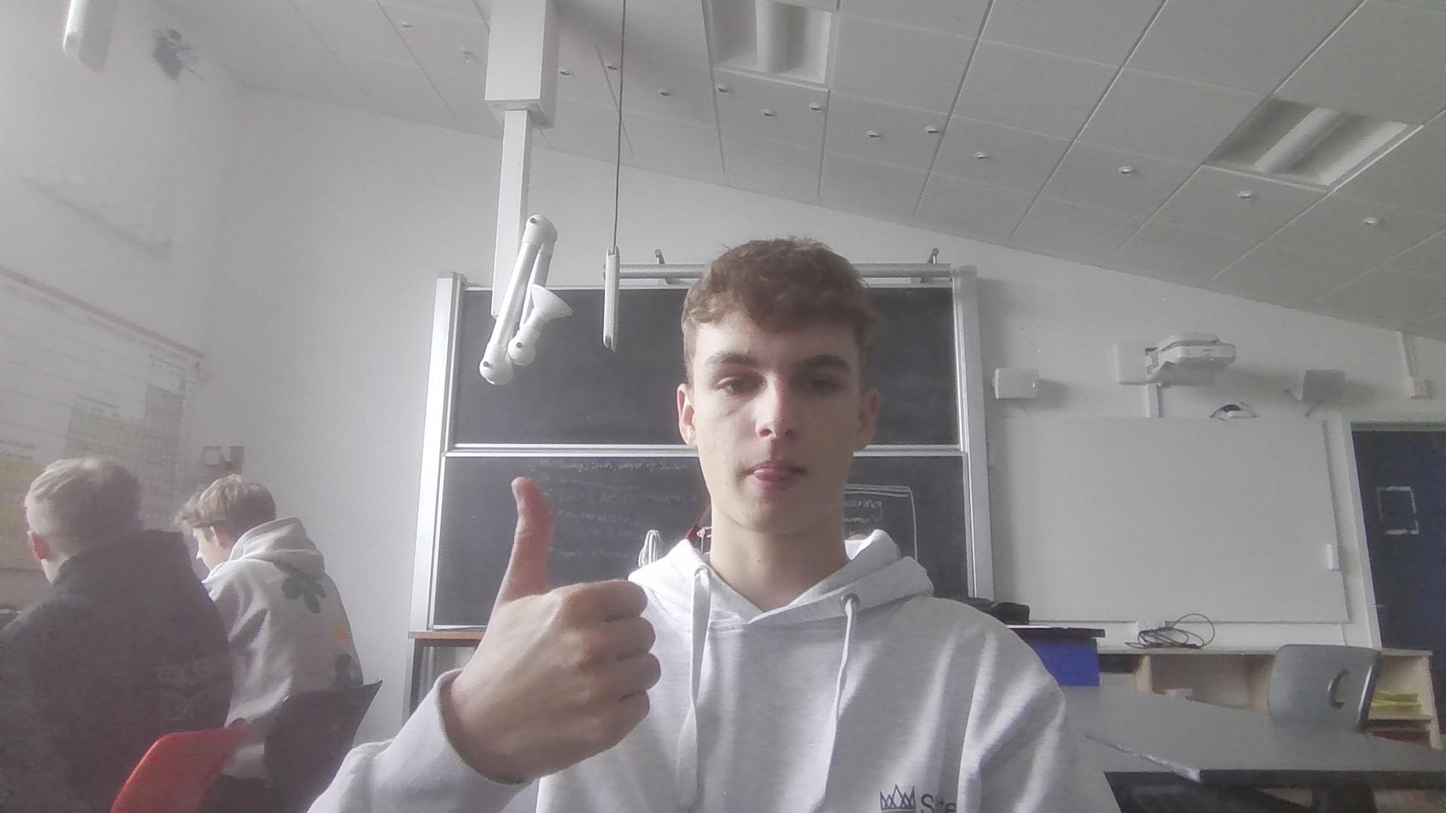thumbs down: (433, 475, 661, 773)
